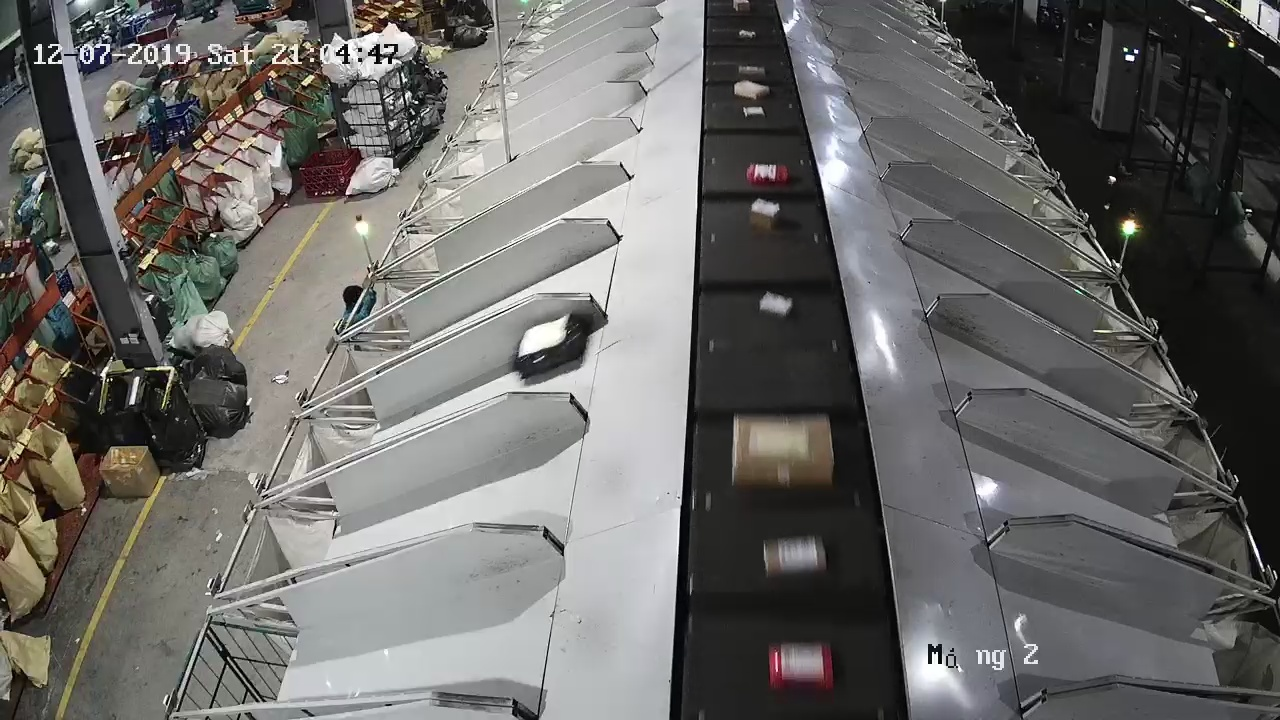parcel: (510, 312, 587, 381)
